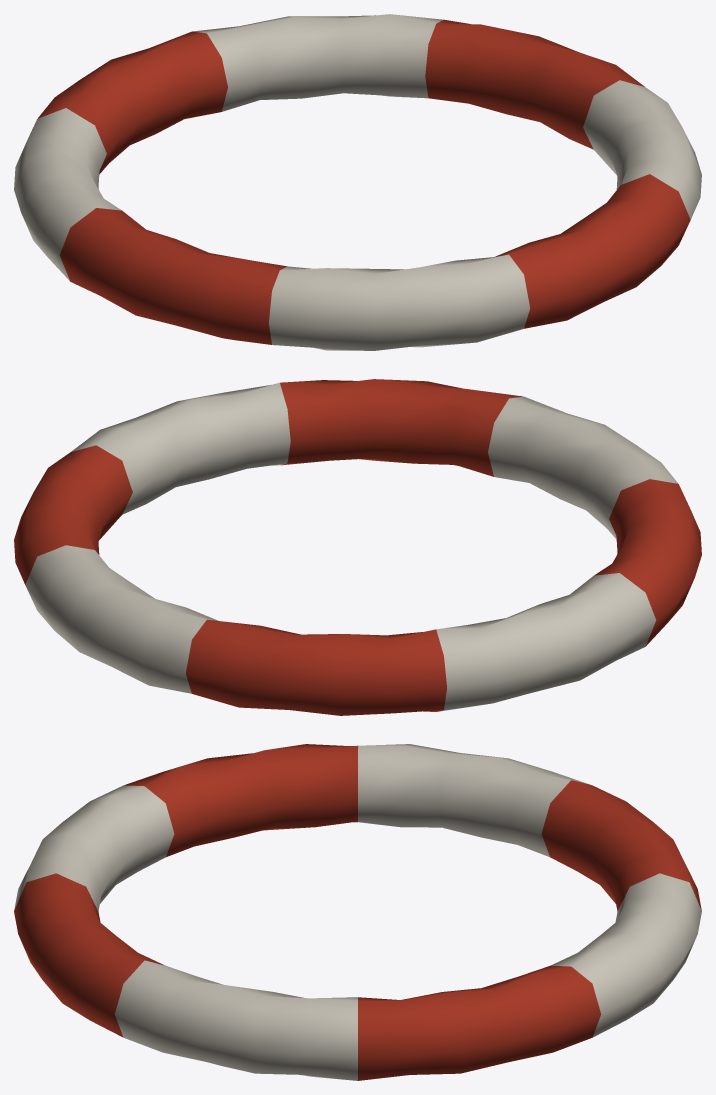
File: wanage_ring.glb
The picture shows the model from 3 angles, top to bottom: view 1: azimuth 30°, elevation 25°; view 2: azimuth 150°, elevation 25°; view 3: azimuth 270°, elevation 25°; orthographic projection.
Parts seen in each view (by area): view 1: ring; view 2: ring; view 3: ring.
Part boxes in pixels (x1,y1,x2,y2): ring: (14,14,701,350); ring: (14,379,701,715); ring: (14,744,701,1080).
Bounding box in the file's own units: 0.171 × 0.0227 × 0.171.
